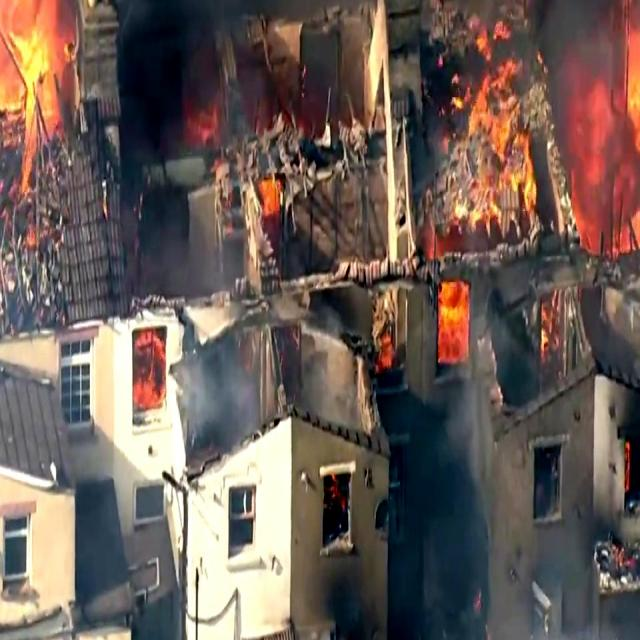fire: (427, 33, 554, 226), (571, 0, 639, 277), (0, 0, 92, 123), (442, 285, 474, 361)
